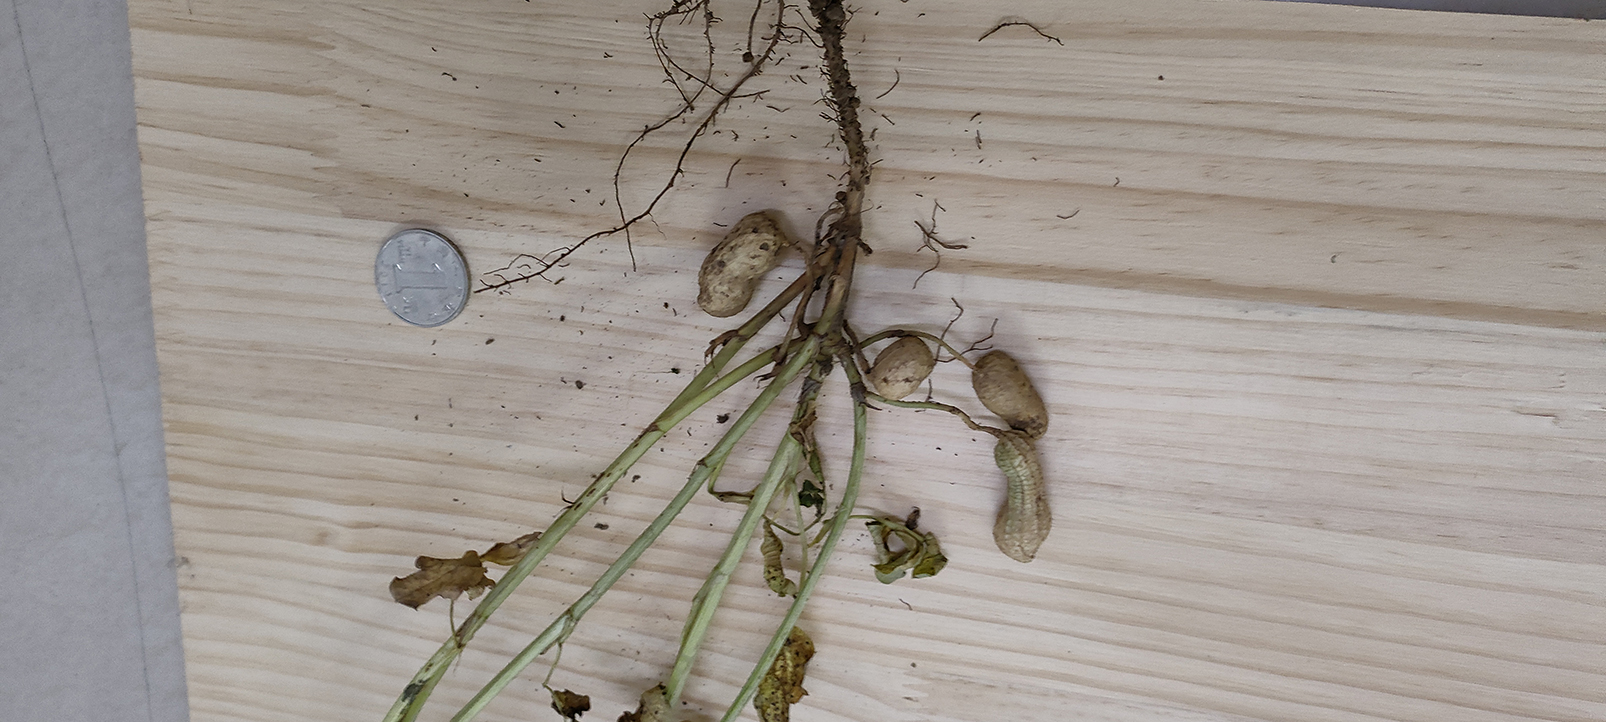h: (696, 212, 783, 317), (991, 434, 1053, 564), (972, 349, 1051, 437), (872, 335, 934, 404)
